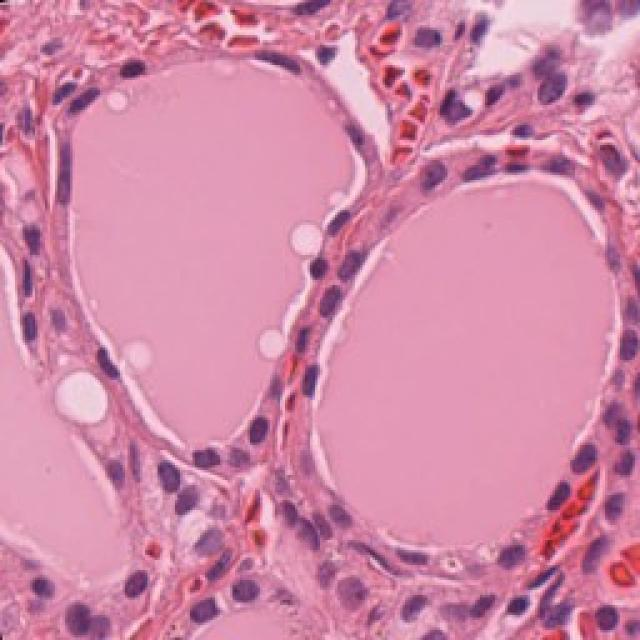normal: (290, 272, 368, 330), (74, 331, 138, 401), (170, 430, 242, 488), (228, 413, 300, 470), (112, 548, 173, 612), (532, 130, 593, 193), (144, 454, 208, 514), (400, 150, 467, 207), (482, 525, 538, 593), (50, 586, 116, 640), (560, 433, 620, 492), (47, 75, 108, 133), (214, 562, 269, 622), (534, 470, 589, 527), (328, 246, 390, 291), (285, 360, 338, 408), (605, 313, 640, 382)
